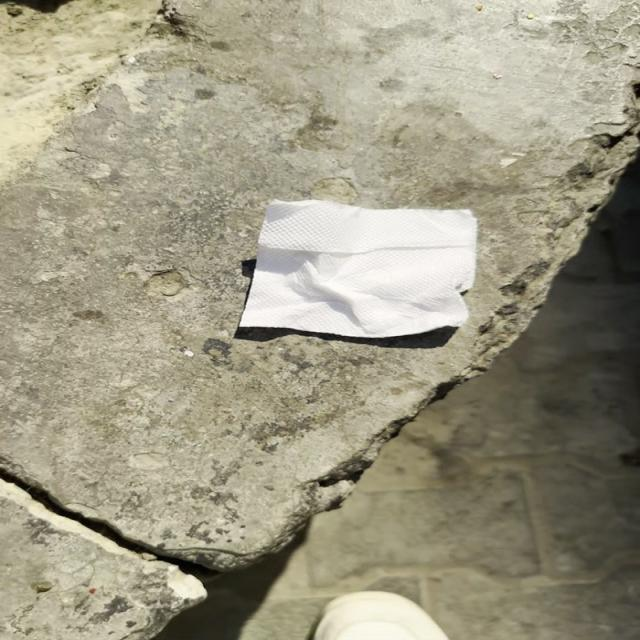tissue: (225, 197, 501, 339)
